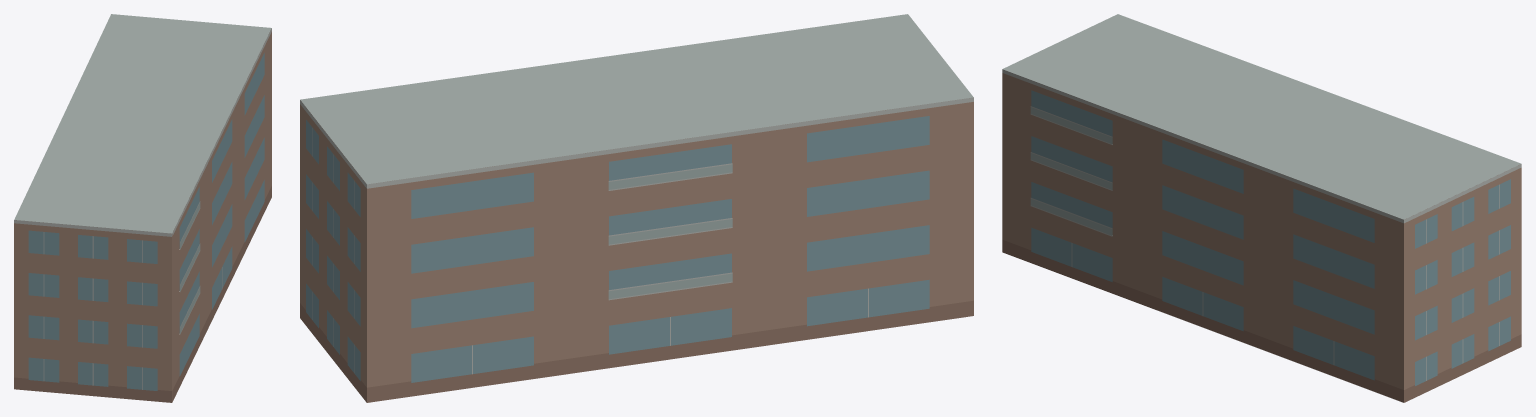
Rendered from survey-upis-32936114.glb.
The picture shows the model from 3 angles, left to right: view 1: azimuth 30°, elevation 25°; view 2: azimuth 150°, elevation 25°; view 3: azimuth 270°, elevation 25°; orthographic projection. The views are drawn at different scales.
Visible parts, largest first — view 1: survey-upis-32936114.tmp; view 2: survey-upis-32936114.tmp; view 3: survey-upis-32936114.tmp.
Part boxes in pixels (x1,y1,x2,y2): survey-upis-32936114.tmp: (14,14,271,402); survey-upis-32936114.tmp: (300,14,973,402); survey-upis-32936114.tmp: (1002,14,1521,402).
Bounding box in the file's own units: 29.4 × 12.2 × 31.37.
